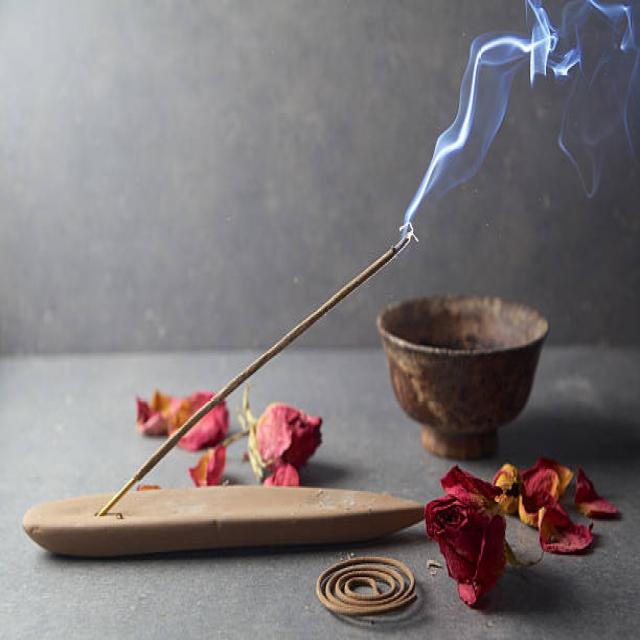Agarbatti: (86, 231, 417, 518)
